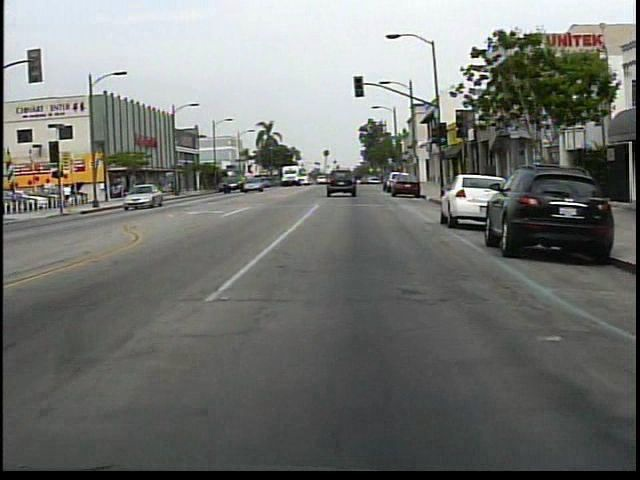person: (64, 182, 76, 211)
